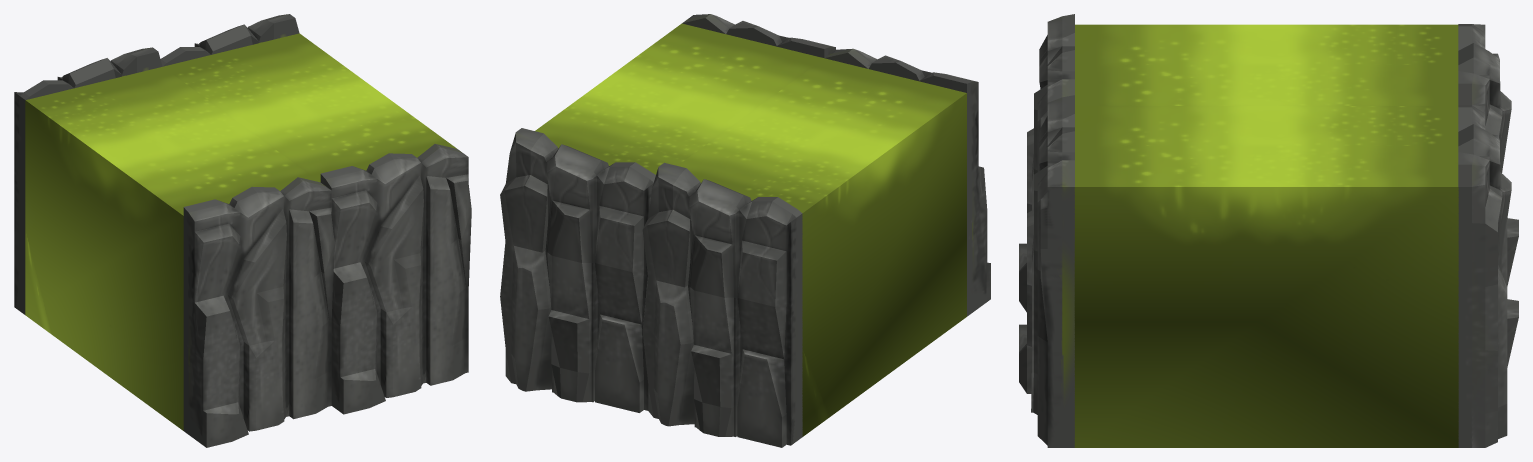
The model's file is RUN4YL.fbx.
3 views of the same model, side by side, from view 1: azimuth 30°, elevation 25°; view 2: azimuth 150°, elevation 25°; view 3: azimuth 270°, elevation 25° (orthographic). The views are drawn at different scales.
Visible parts, largest first — view 1: R4YL_PROP_ground.001, R4YL_PROP_ground.002; view 2: R4YL_PROP_ground.001, R4YL_PROP_ground.002; view 3: R4YL_PROP_ground.002, R4YL_PROP_ground.001.
Boxes of the visible parts, x1,y1,x2,y2 form: R4YL_PROP_ground.001: [14, 47, 334, 447]; R4YL_PROP_ground.002: [160, 14, 471, 414]; R4YL_PROP_ground.001: [642, 48, 990, 447]; R4YL_PROP_ground.002: [500, 14, 835, 412]; R4YL_PROP_ground.002: [1019, 95, 1518, 447]; R4YL_PROP_ground.001: [1019, 14, 1518, 312].
Bounding box in the file's own units: 401 × 325 × 521.
1 material, 1 textured.
